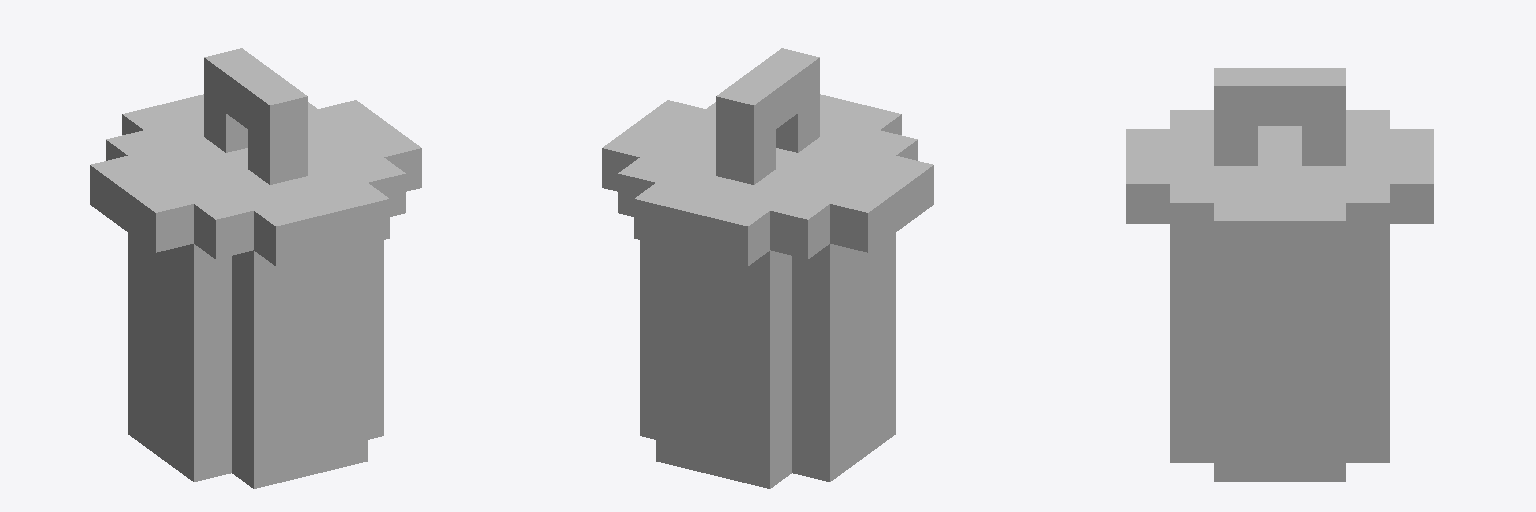
The model's file is obj_bin.obj.
The picture shows the model from 3 angles: view 1: azimuth 30°, elevation 25°; view 2: azimuth 150°, elevation 25°; view 3: azimuth 270°, elevation 25°; orthographic projection.
Parts seen in each view (by area): view 1: obj_bin; view 2: obj_bin; view 3: obj_bin.
Part boxes in pixels (x1,y1,x2,y2): obj_bin: (90, 48, 421, 488); obj_bin: (602, 48, 933, 488); obj_bin: (1126, 68, 1433, 481).
Size of the model in its own units: 7 by 9 by 7.